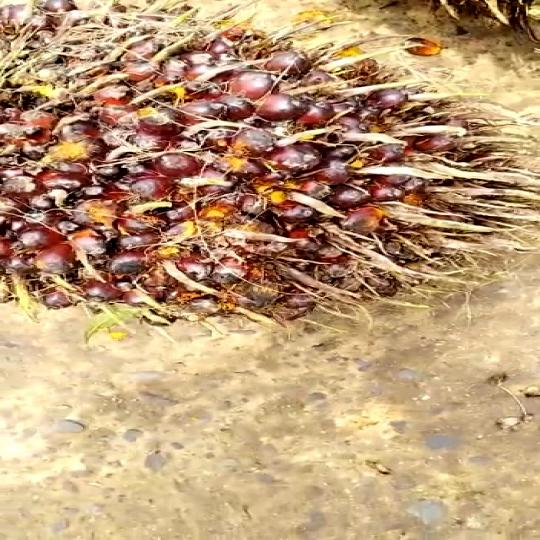masak: (0, 0, 540, 310)
